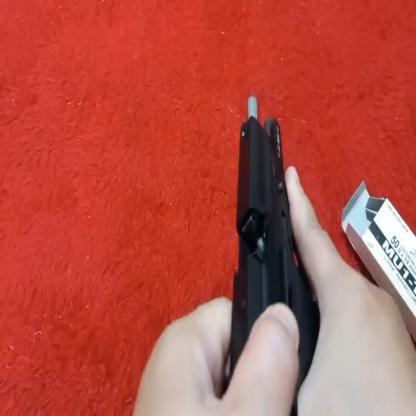handgun: (232, 85, 313, 379)
